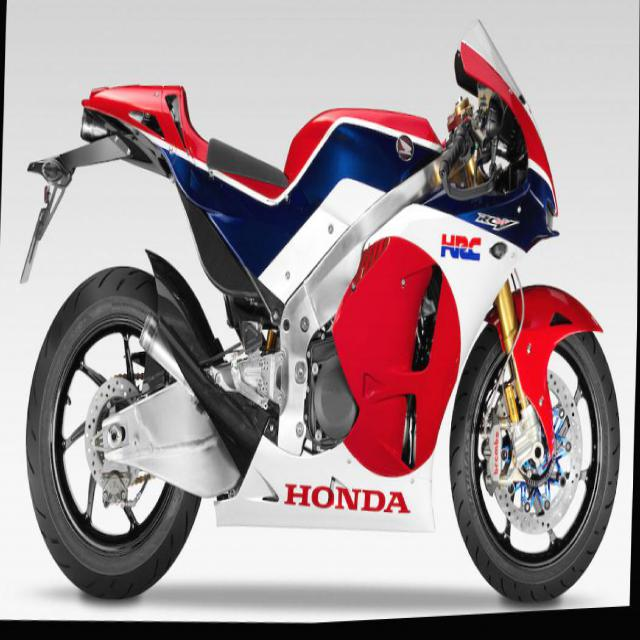HRC RCV 213: (12, 0, 632, 636)
